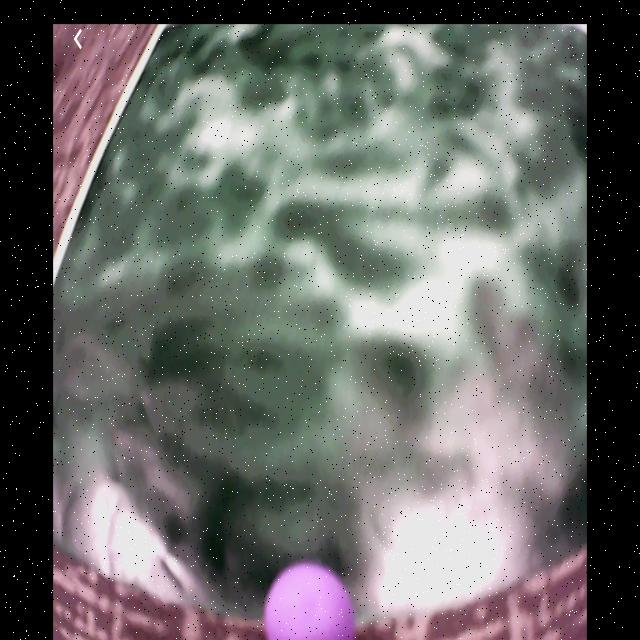ball: (265, 562, 354, 640)
